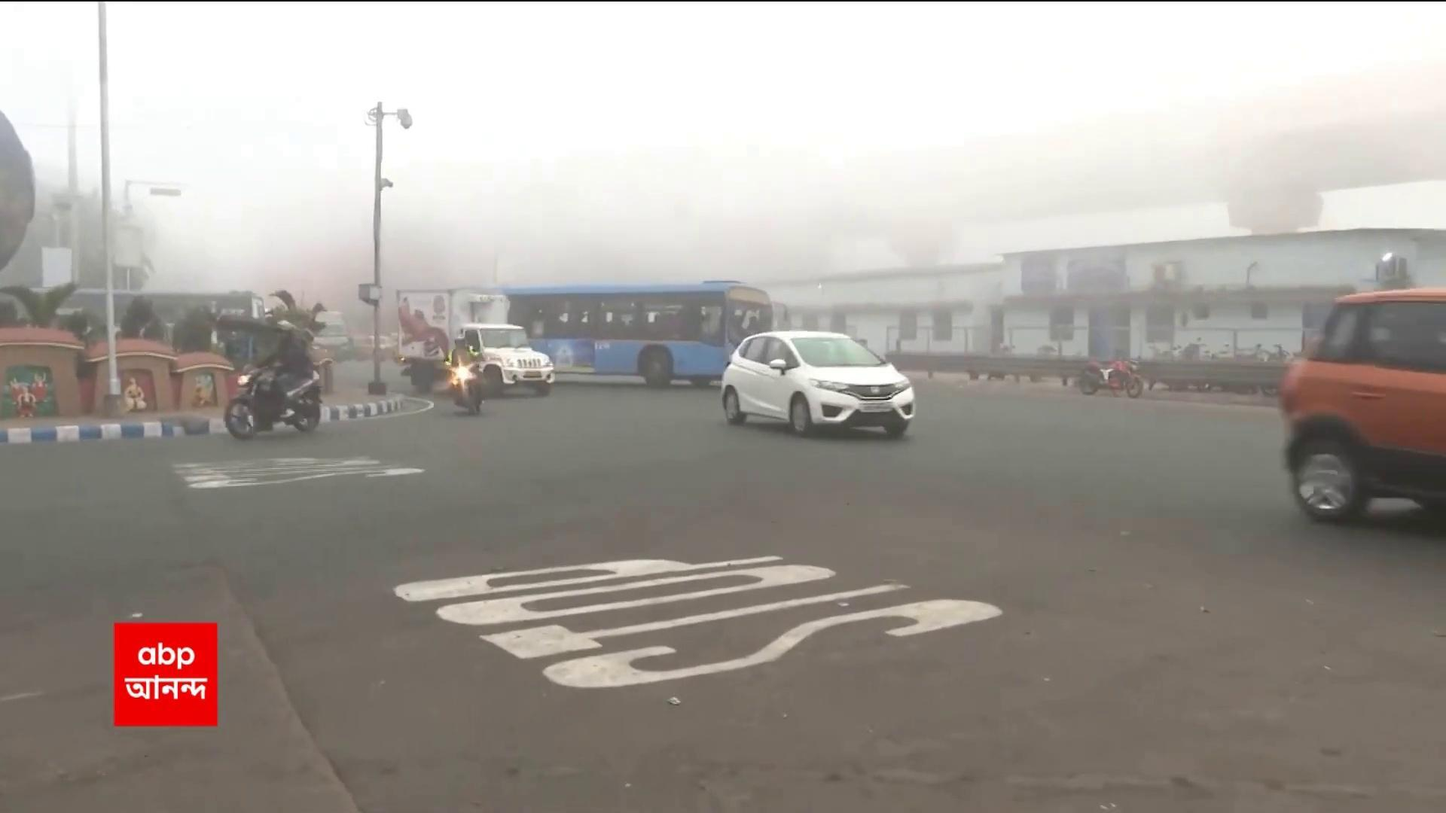Bike: (223, 319, 326, 441), (438, 334, 487, 416)
Bus: (495, 277, 773, 387)
Car: (1284, 277, 1446, 525), (720, 328, 918, 440)
Truck: (394, 283, 552, 391)
